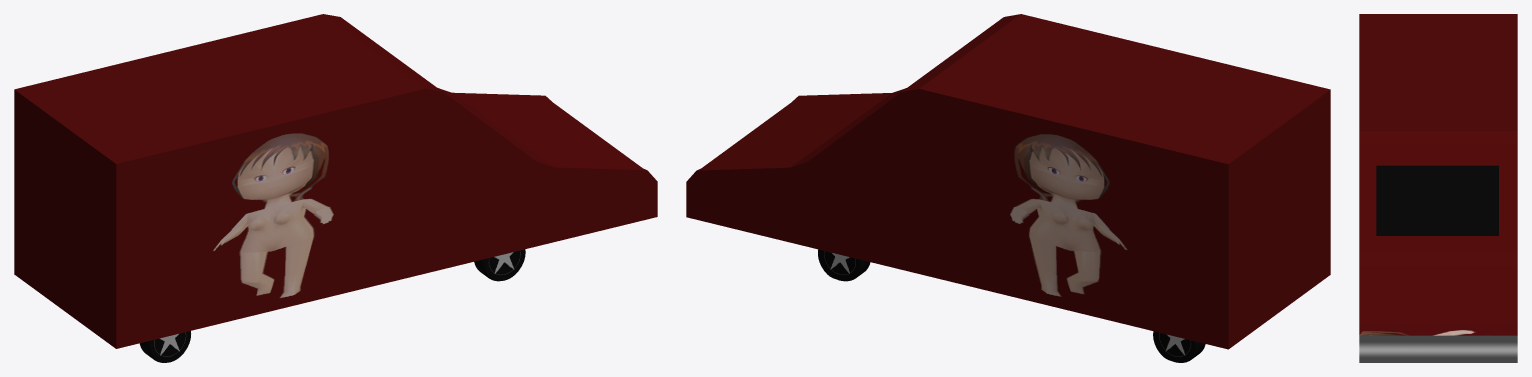
File: 車子來襲.fbx
3 renders of one model, left to right at view 1: azimuth 30°, elevation 25°; view 2: azimuth 150°, elevation 25°; view 3: azimuth 270°, elevation 25°, orthographic. The views are drawn at different scales.
Parts seen in each view (by area): view 1: 車子; view 2: 車子; view 3: 車子.
Part boxes in pixels (x1,y1,x2,y2): 車子: [14, 14, 657, 362]; 車子: [686, 14, 1330, 362]; 車子: [1359, 14, 1517, 362].
Size of the model in its own units: 613 by 200 by 250.
6 materials, 6 textured.
